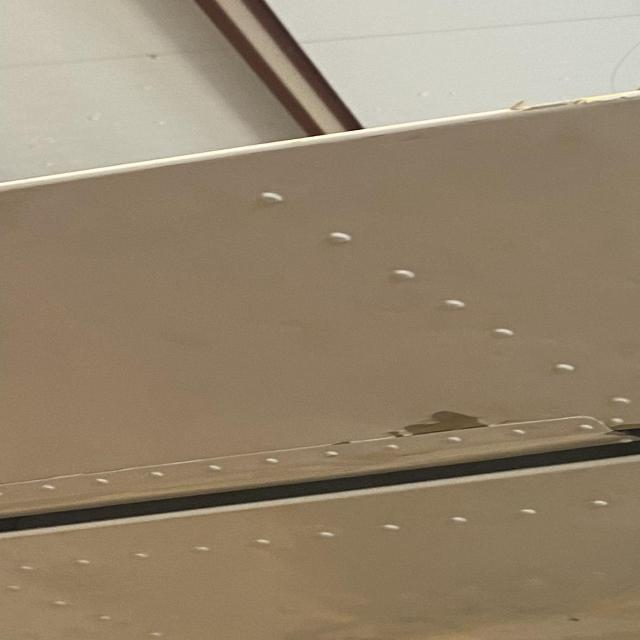Paint-off: (507, 92, 628, 112), (397, 411, 483, 435), (323, 437, 359, 451), (605, 422, 640, 432)
